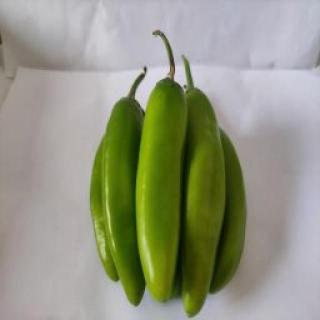Cabai Hijau: (134, 27, 190, 307)
